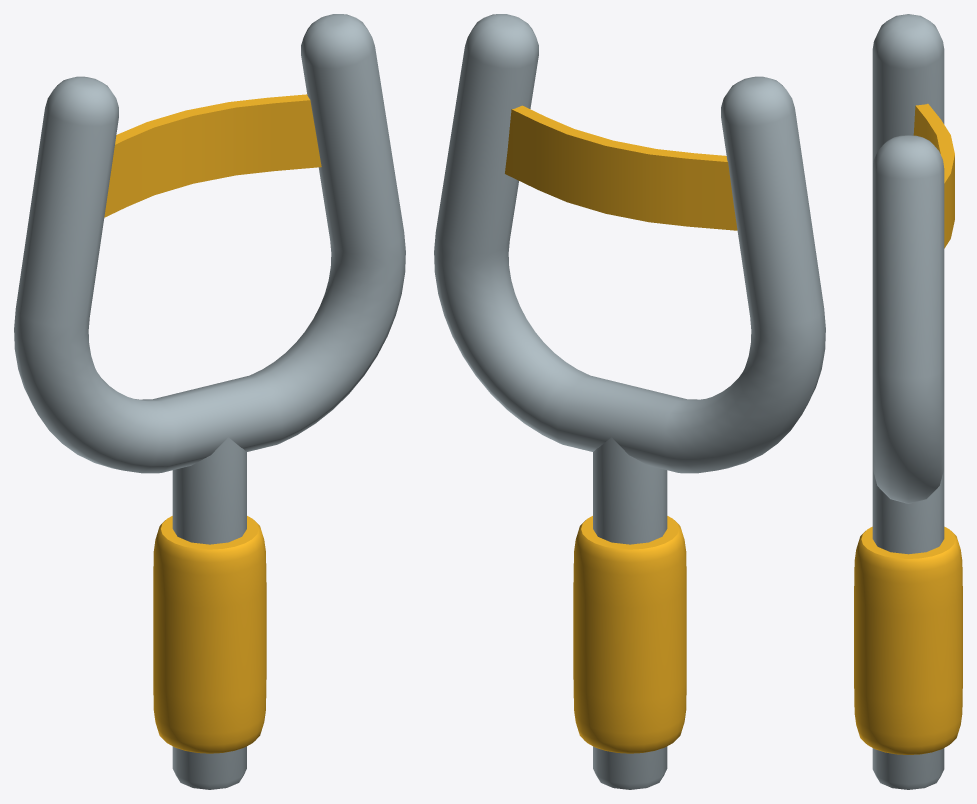
The model's file is slingshot_teamYellow-col.glb.
The picture shows the model from 3 angles, left to right: view 1: azimuth 30°, elevation 25°; view 2: azimuth 150°, elevation 25°; view 3: azimuth 270°, elevation 25°; orthographic projection. The views are drawn at different scales.
Parts seen in each view (by area): view 1: slingshot_teamYellow-col; view 2: slingshot_teamYellow-col; view 3: slingshot_teamYellow-col.
Boxes of the visible parts, x1,y1,x2,y2 form: slingshot_teamYellow-col: [14, 14, 405, 789]; slingshot_teamYellow-col: [434, 14, 825, 789]; slingshot_teamYellow-col: [854, 14, 962, 789].
Bounding box in the file's own units: 0.607 × 1.11 × 0.156.
